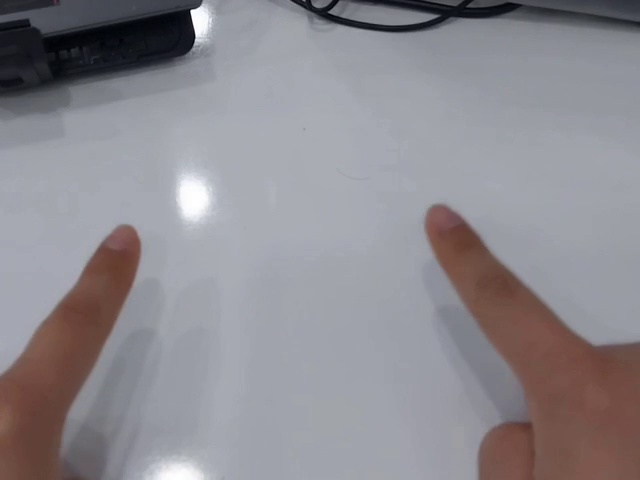fingers: (424, 202, 482, 261), (92, 221, 142, 284)
